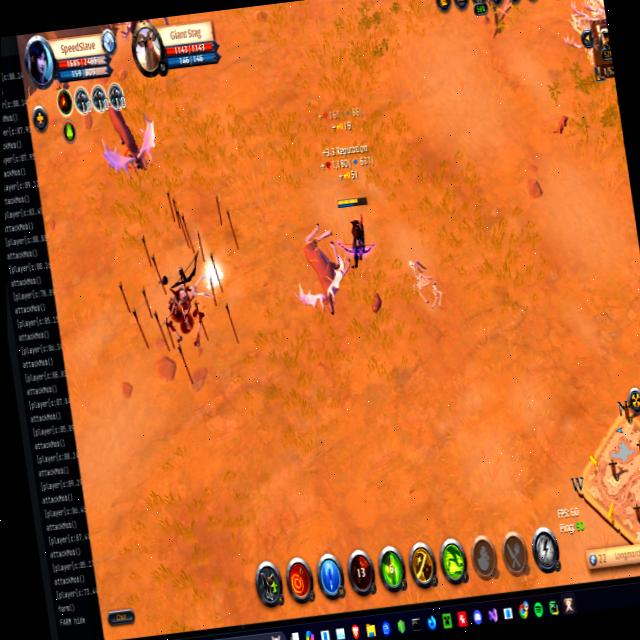mob: (292, 214, 359, 323)
ore: (93, 96, 165, 185)
red: (334, 191, 378, 267)
stone: (199, 254, 231, 300)
